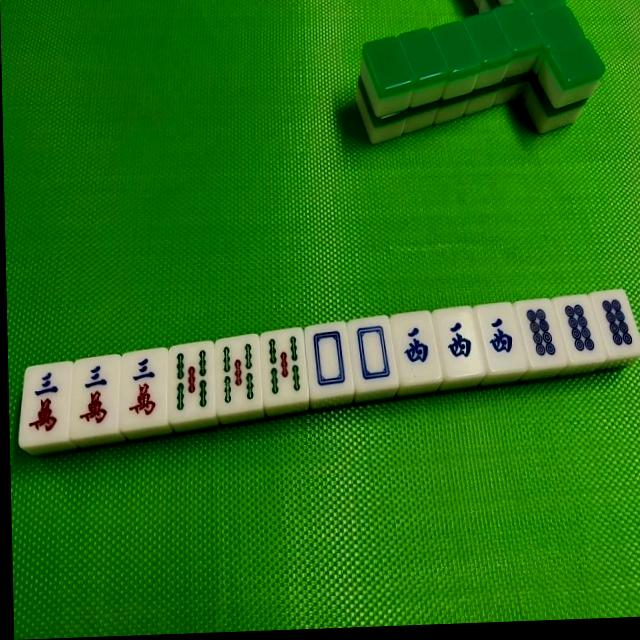3C: (24, 367, 68, 440), (76, 359, 118, 428), (124, 353, 165, 422)
5B: (172, 346, 214, 415), (266, 332, 308, 399), (218, 341, 259, 408)
8D: (524, 305, 559, 364), (603, 295, 637, 350), (562, 301, 597, 354)
WD: (351, 318, 393, 387), (310, 326, 350, 394)
WW: (395, 315, 433, 372), (482, 308, 518, 360), (441, 313, 475, 365)
